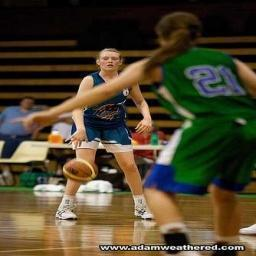ball: (60, 154, 100, 183)
human: (8, 10, 256, 256), (54, 44, 156, 222)
